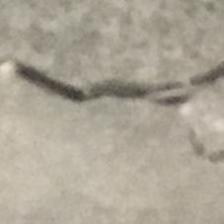Crack: (0, 47, 224, 166)
